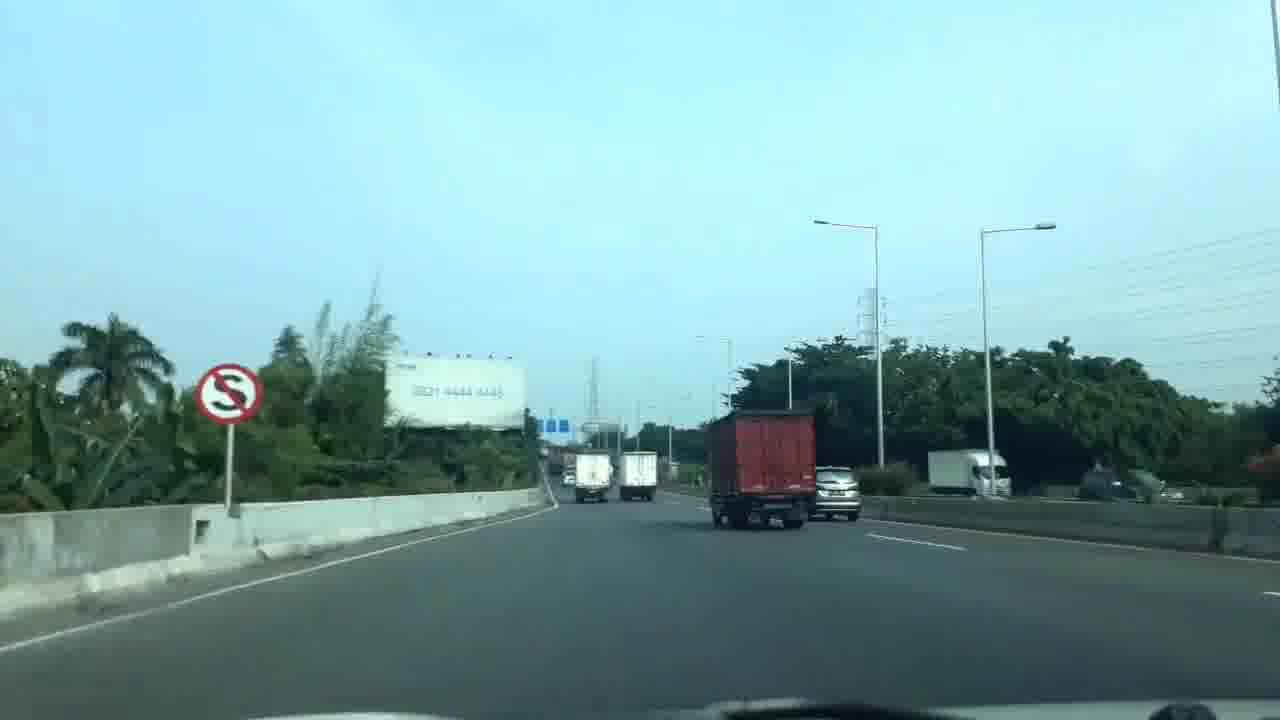plate_positive: (764, 502, 792, 510), (828, 490, 845, 496)
